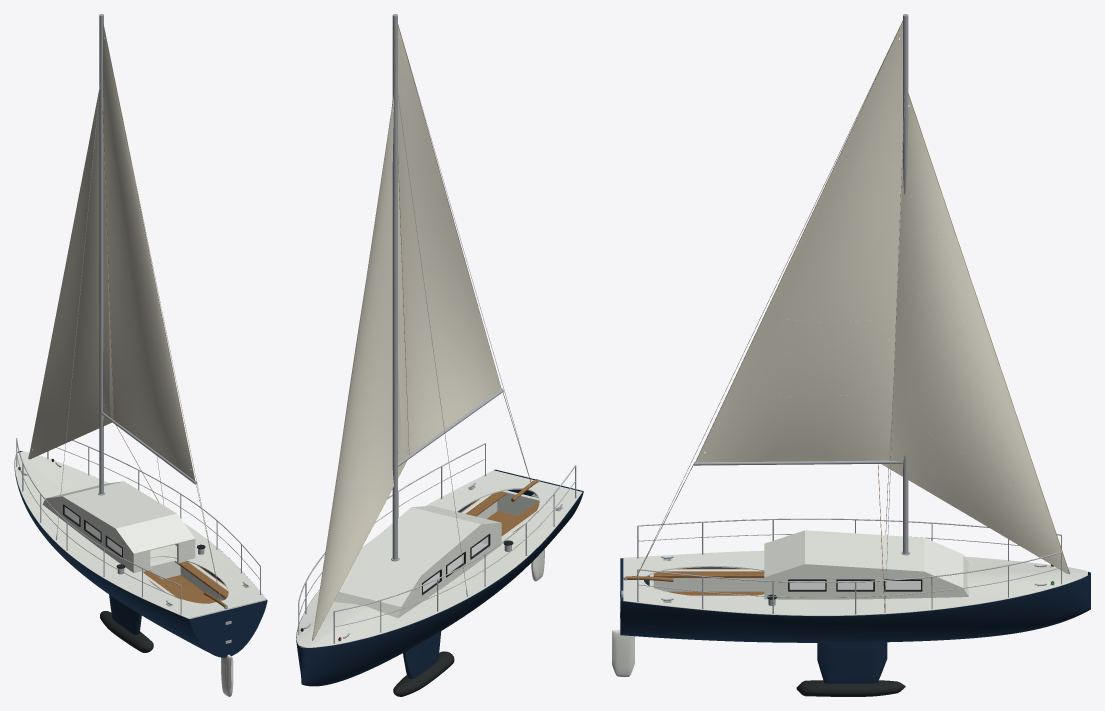
Rendered from boat_sailboat.glb.
The picture shows the model from 3 angles, left to right: view 1: azimuth 30°, elevation 25°; view 2: azimuth 150°, elevation 25°; view 3: azimuth 270°, elevation 25°; orthographic projection. The views are drawn at different scales.
Parts seen in each view (by area): view 1: Yacht sloop foresail finite cambered cloth with punched eyel, Yacht cockpit end wall-1280, Yacht exact8m finite hull, Yacht attached rudder post, Yacht sloop attached boom, Yacht attached teak tiller, Yacht navigation1 closed optical housing, Yacht sloop attached jibsheet; view 2: Yacht sloop foresail finite cambered cloth with punched eyel, Yacht cockpit end wall-1280, Yacht exact8m finite hull, Yacht attached rudder post, Yacht sloop attached boom, Yacht navigation1 closed optical housing, Yacht sloop attached jibsheet, Yacht attached teak tiller, Yacht finite side window0-1; view 3: Yacht sloop foresail finite cambered cloth with punched eyel, Yacht cockpit end wall-1280, Yacht exact8m finite hull, Yacht attached rudder post, Yacht sloop attached boom, Yacht navigation1 closed optical housing, Yacht sloop attached jibsheet, Yacht attached teak tiller, Yacht finite side window0-1.
Boxes of the visible parts, left/top/right/bottom form: Yacht sloop foresail finite cambered cloth with punched eyel: left=29, top=23, right=194, bottom=480; Yacht cockpit end wall-1280: left=14, top=451, right=266, bottom=696; Yacht exact8m finite hull: left=14, top=451, right=267, bottom=657; Yacht attached rudder post: left=16, top=20, right=261, bottom=643; Yacht sloop attached boom: left=99, top=14, right=196, bottom=494; Yacht attached teak tiller: left=143, top=561, right=228, bottom=607; Yacht navigation1 closed optical housing: left=18, top=459, right=205, bottom=652; Yacht sloop attached jibsheet: left=29, top=39, right=220, bottom=597; Yacht sloop foresail finite cambered cloth with punched eyel: left=313, top=25, right=501, bottom=639; Yacht cockpit end wall-1280: left=296, top=470, right=582, bottom=647; Yacht exact8m finite hull: left=296, top=469, right=583, bottom=686; Yacht attached rudder post: left=298, top=25, right=576, bottom=643; Yacht sloop attached boom: left=392, top=14, right=503, bottom=559; Yacht navigation1 closed optical housing: left=300, top=533, right=513, bottom=696; Yacht sloop attached jibsheet: left=313, top=24, right=530, bottom=639; Yacht attached teak tiller: left=460, top=479, right=539, bottom=542; Yacht finite side window0-1: left=423, top=536, right=488, bottom=592; Yacht sloop foresail finite cambered cloth with punched eyel: left=696, top=22, right=1068, bottom=573; Yacht cockpit end wall-1280: left=612, top=530, right=1087, bottom=677; Yacht exact8m finite hull: left=620, top=558, right=1090, bottom=683; Yacht attached rudder post: left=620, top=20, right=1070, bottom=617; Yacht sloop attached boom: left=694, top=14, right=908, bottom=553; Yacht navigation1 closed optical housing: left=767, top=564, right=1054, bottom=696; Yacht sloop attached jibsheet: left=639, top=21, right=1067, bottom=607; Yacht attached teak tiller: left=625, top=568, right=764, bottom=595; Yacht finite side window0-1: left=789, top=581, right=920, bottom=589.
Bounding box in the file's own units: 3.42 × 16.46 × 10.5.
Materials: 13 (8 with a texture image).
